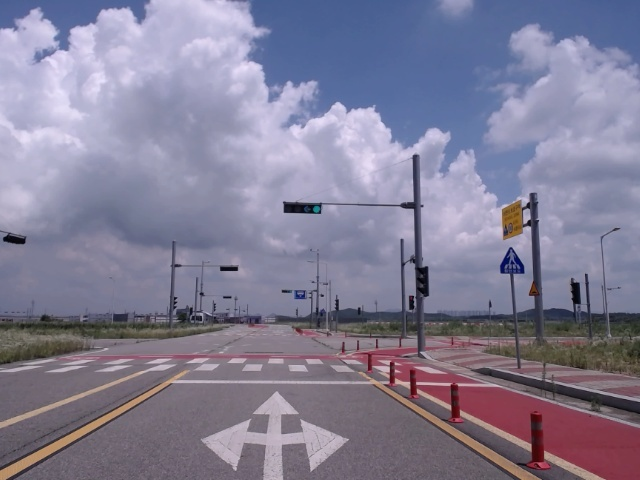all_green_4: (282, 203, 325, 215)
